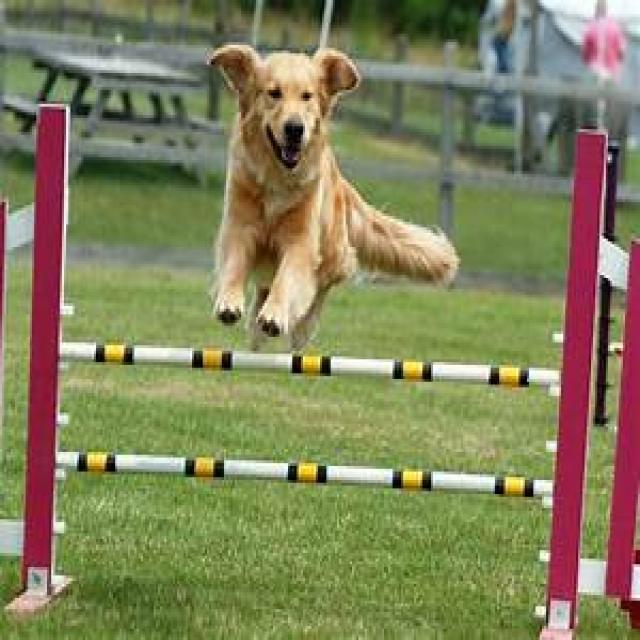animal: (214, 42, 458, 348)
